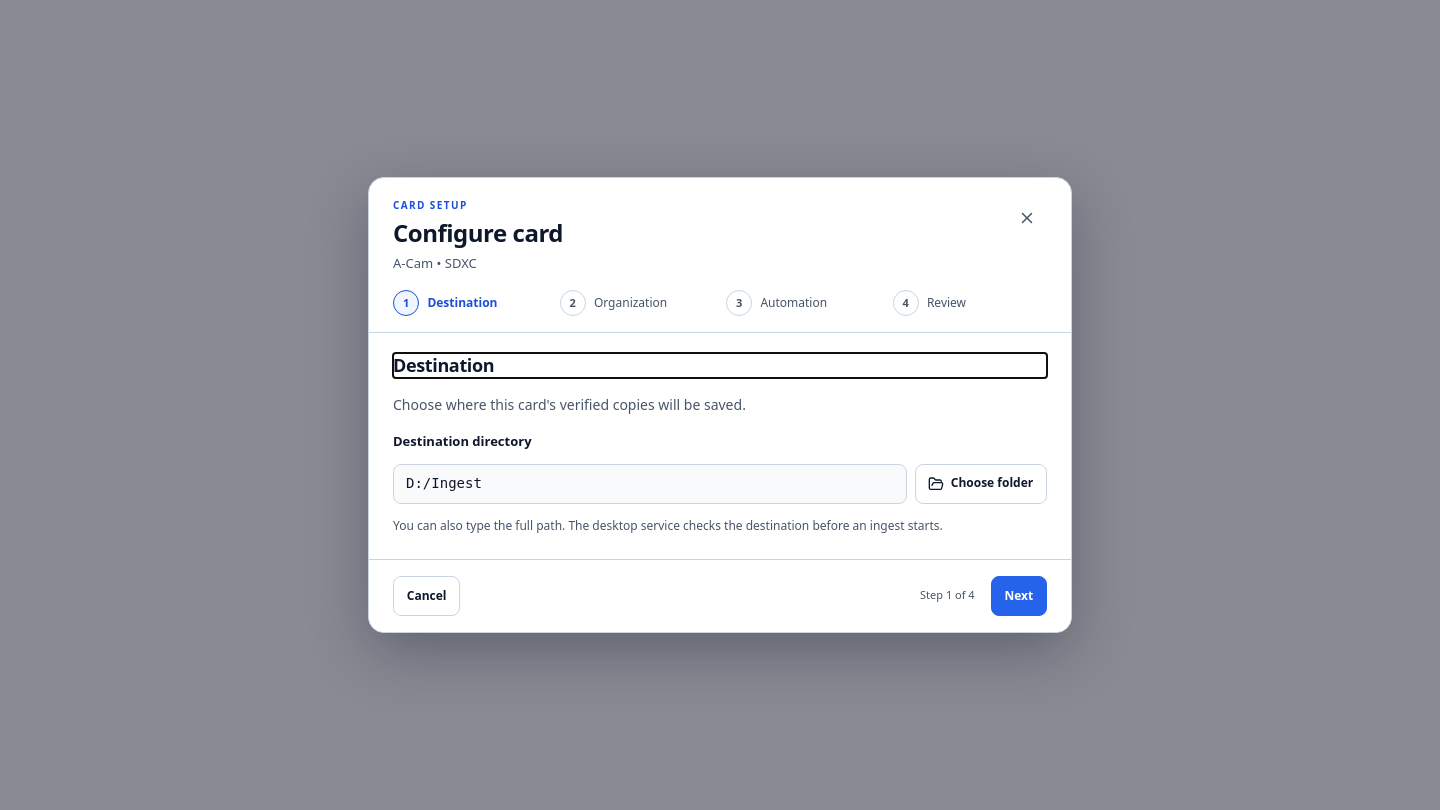
Test: a malformed saved time basis needs an explicit correction before progression
The width and height of the screenshot is (1440, 810).
Click the button "Next" at (1019, 596), box [991,576,1047,616]
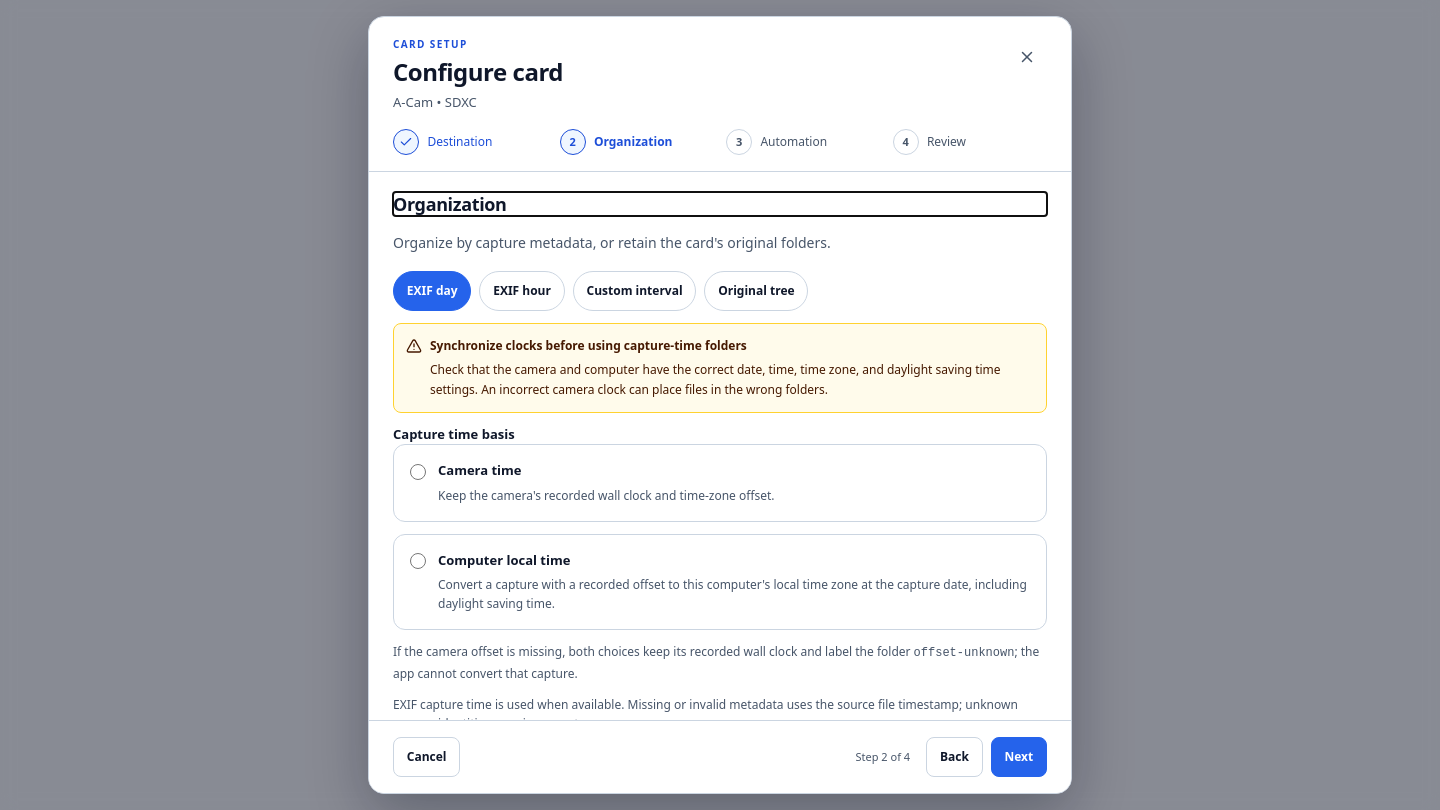
Expected: the radio button labelled "Camera time" is not checked, [410,464,426,480]
Expected: the radio button labelled "Computer local time" is not checked, [410,553,426,569]
Click the button "Next" at (1019, 757), box [991,737,1047,777]
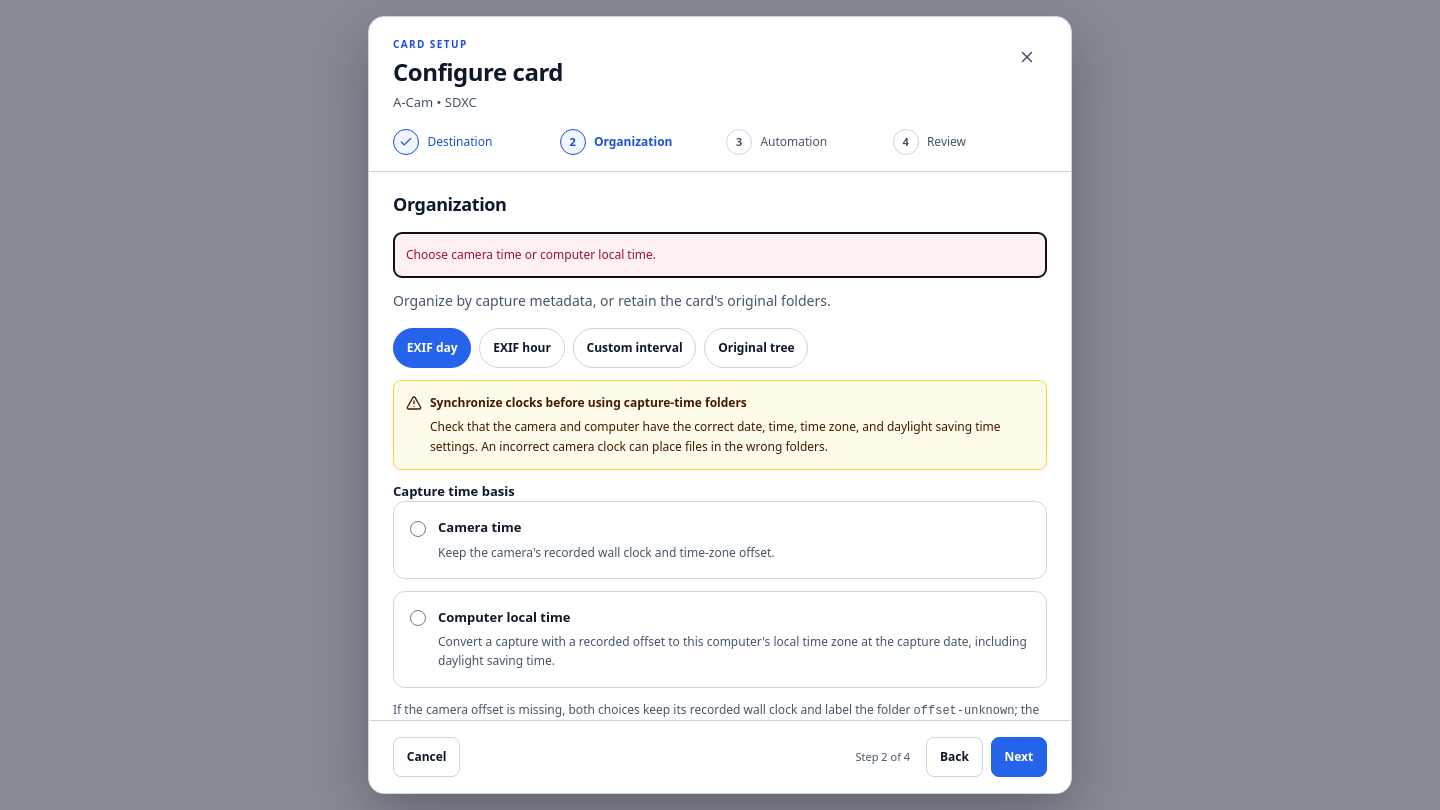
Expected: the heading "Organization" is shown, [393,192,506,216]
Expected: the message reads "Choose camera time or computer local time.", [406,246,656,263]
Click the radio button labelled "Camera time" at (418, 529), box [410,521,426,537]
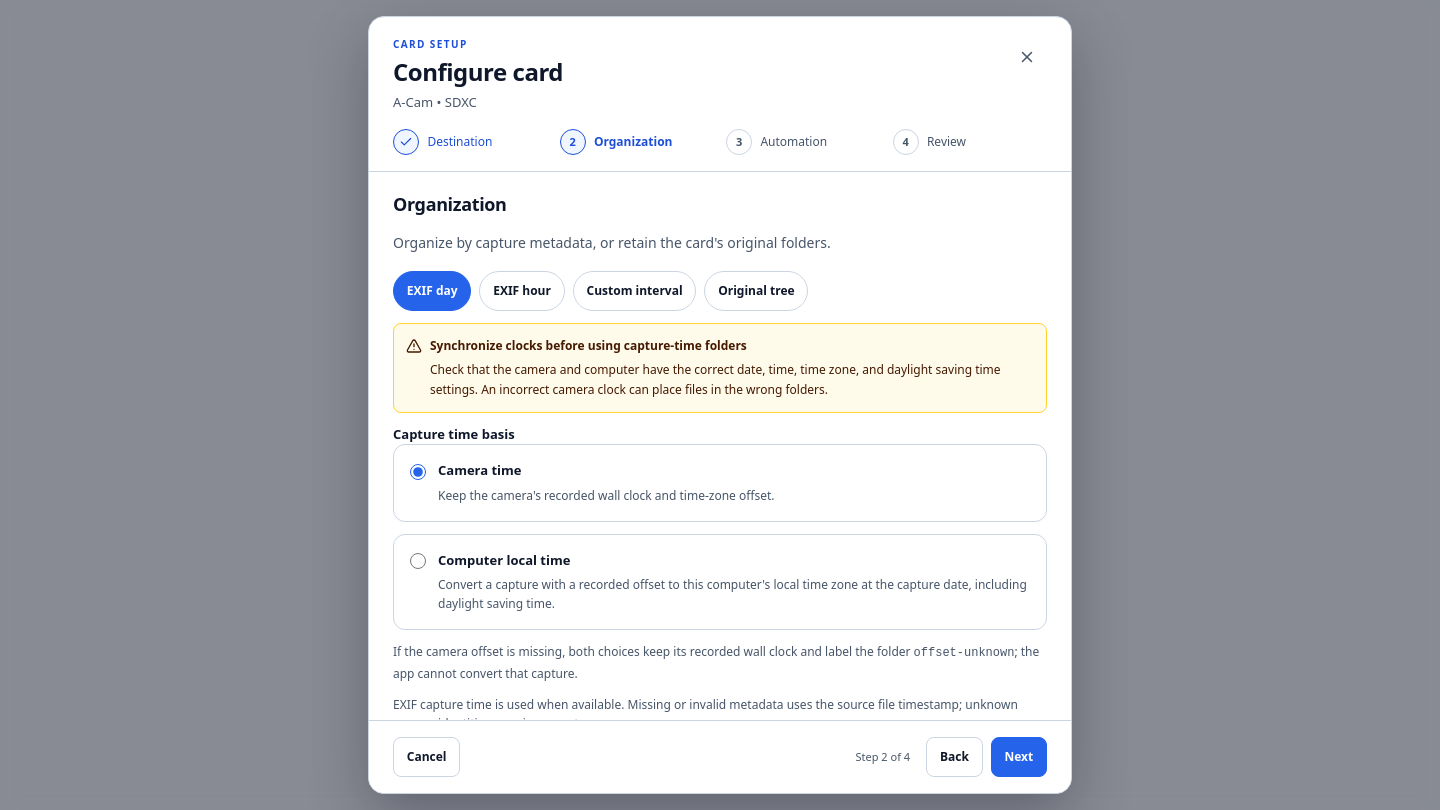
Click the button "Next" at (1019, 757), box [991,737,1047,777]
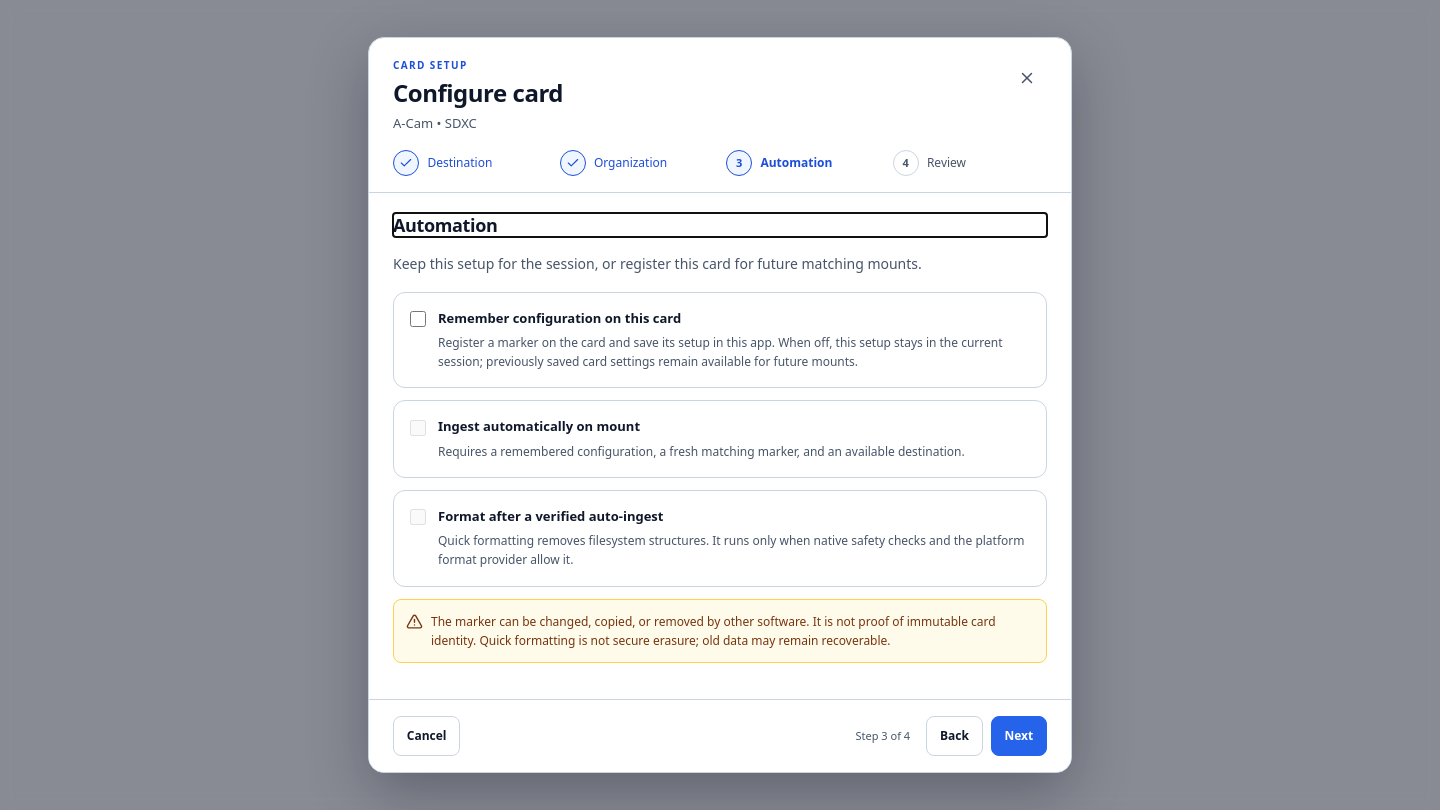
Expected: the message "Choose camera time or computer local time." is not shown
Expected: the heading "Automation" is shown, [393,213,497,237]
